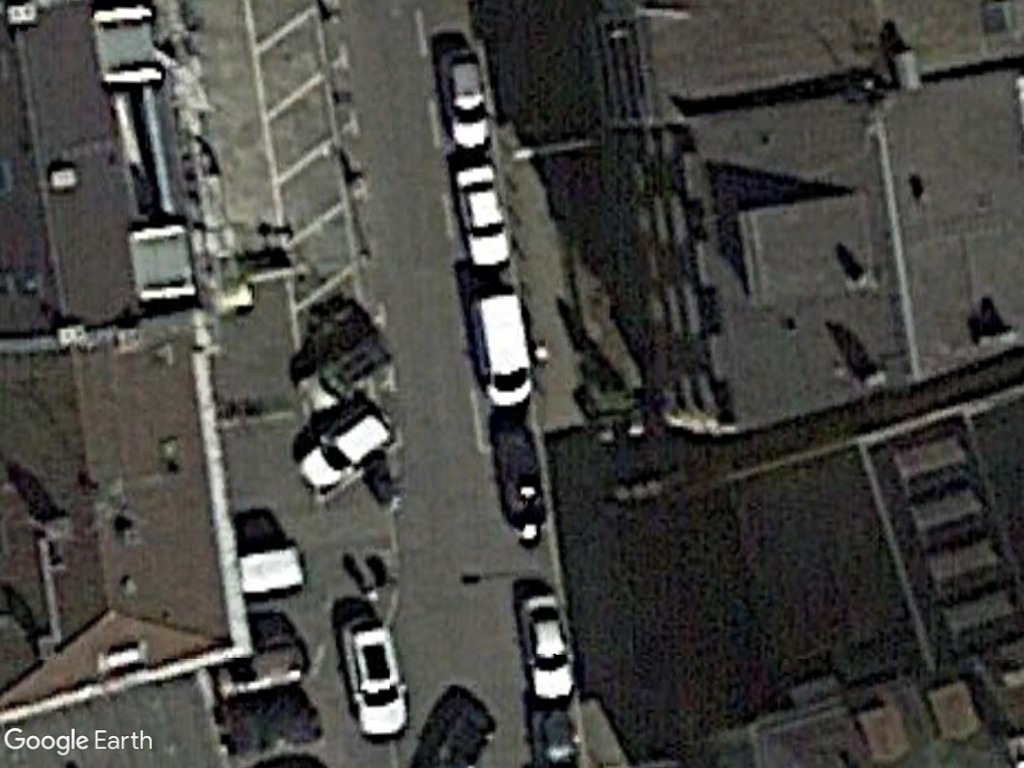car: (337, 612, 413, 742), (294, 406, 398, 496), (515, 589, 577, 709), (451, 160, 513, 272), (436, 42, 493, 152)
van: (470, 286, 536, 411)
